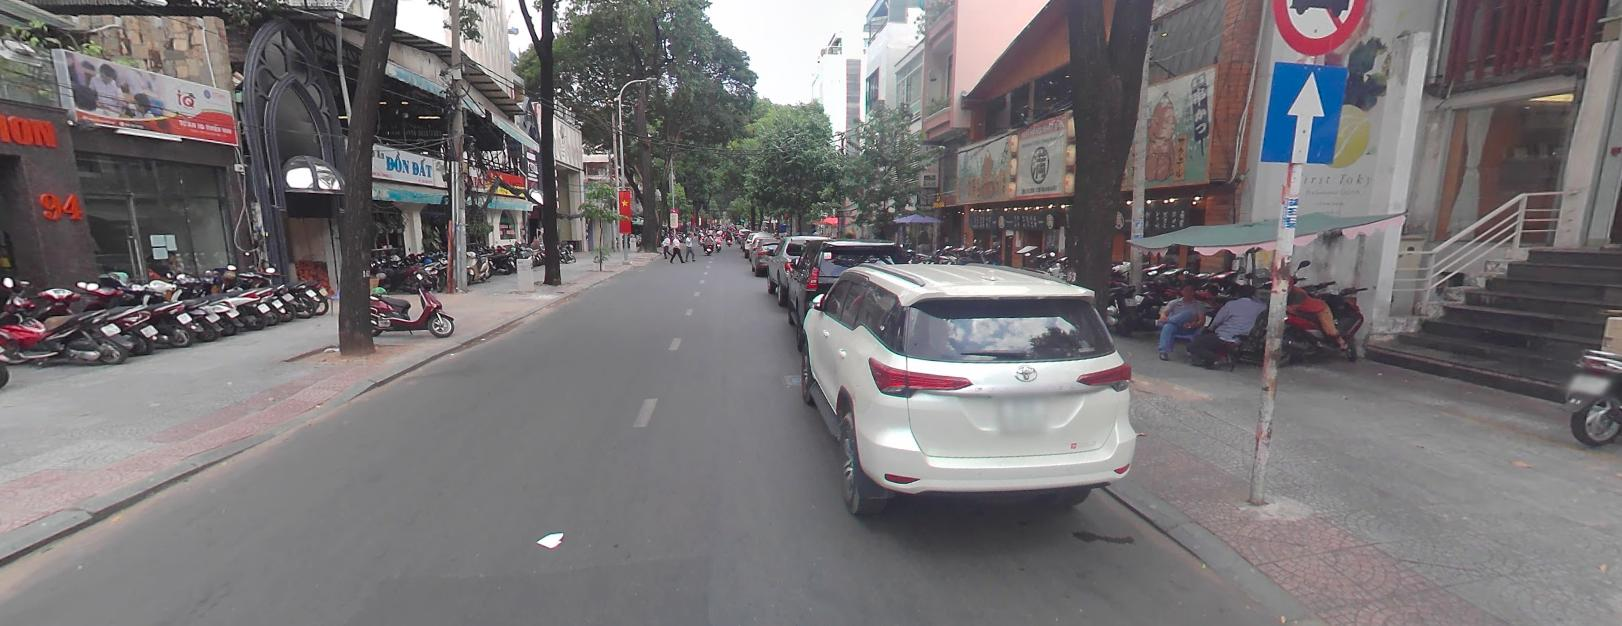Cam con lai: (1270, 1, 1368, 58)
